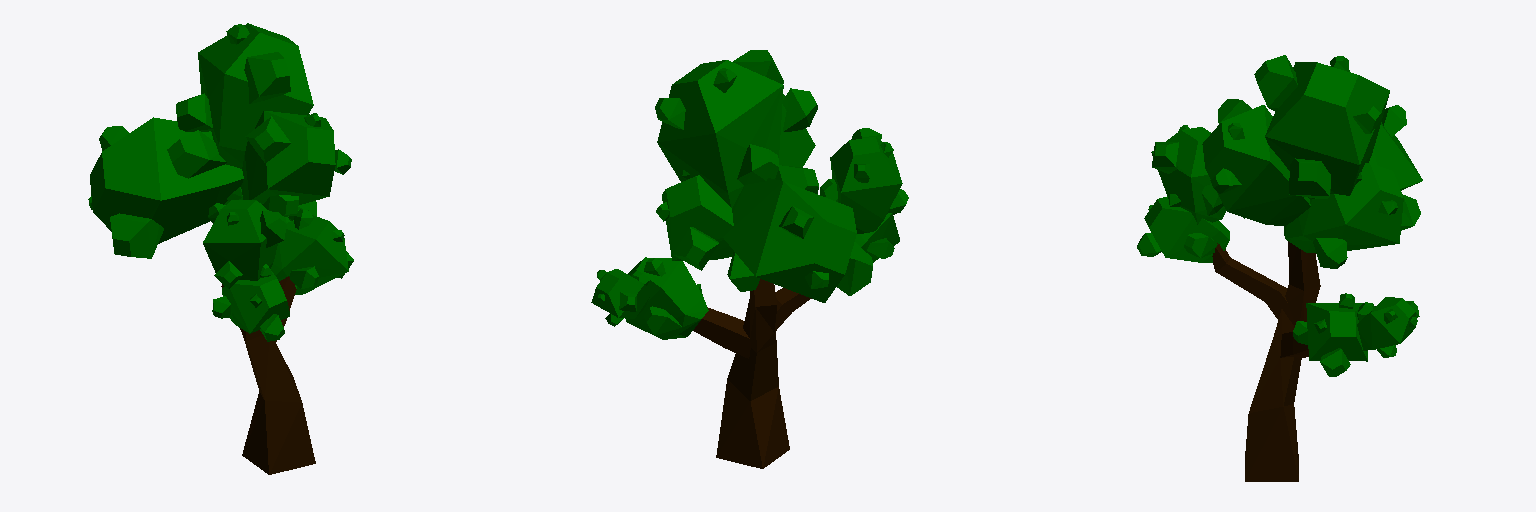
Rendered from tree1.obj.
3 renders of one model, left to right at view 1: azimuth 30°, elevation 25°; view 2: azimuth 150°, elevation 25°; view 3: azimuth 270°, elevation 25°, orthographic.
Visible parts, largest first — view 1: tree_obj:Mesh; view 2: tree_obj:Mesh; view 3: tree_obj:Mesh.
Boxes of the visible parts, <box> form: tree_obj:Mesh: <box>88,23,353,474</box>; tree_obj:Mesh: <box>591,50,908,468</box>; tree_obj:Mesh: <box>1137,55,1422,481</box>.
Bounding box in the file's own units: 139 × 220 × 139.